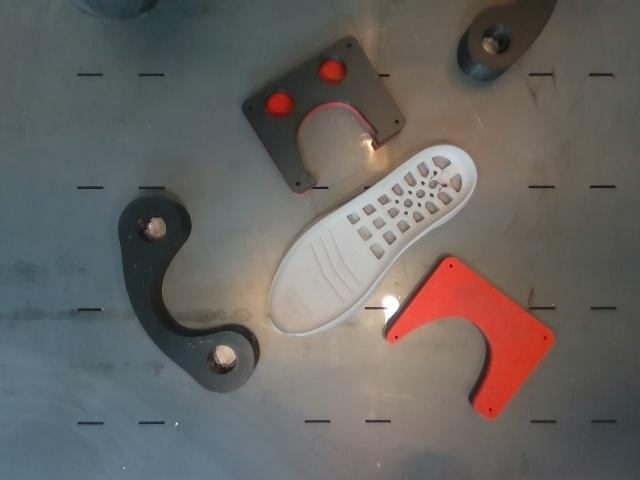shoes: (267, 146, 475, 333)
